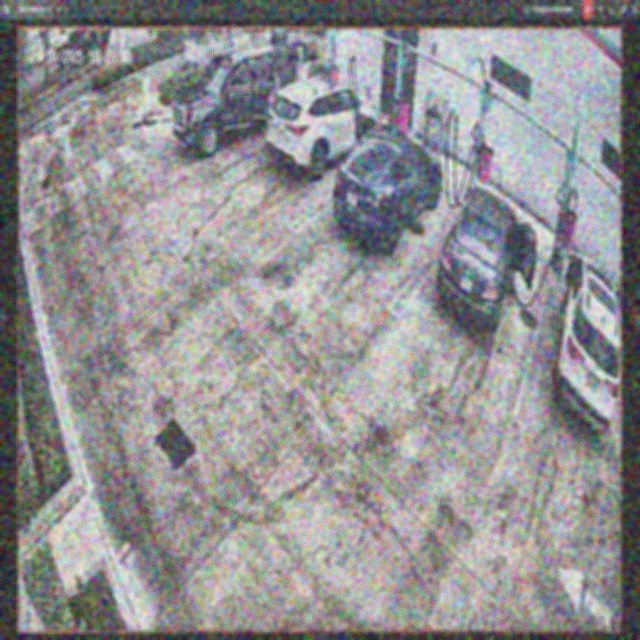Car: (334, 122, 443, 249), (439, 186, 535, 329), (268, 75, 378, 174)
